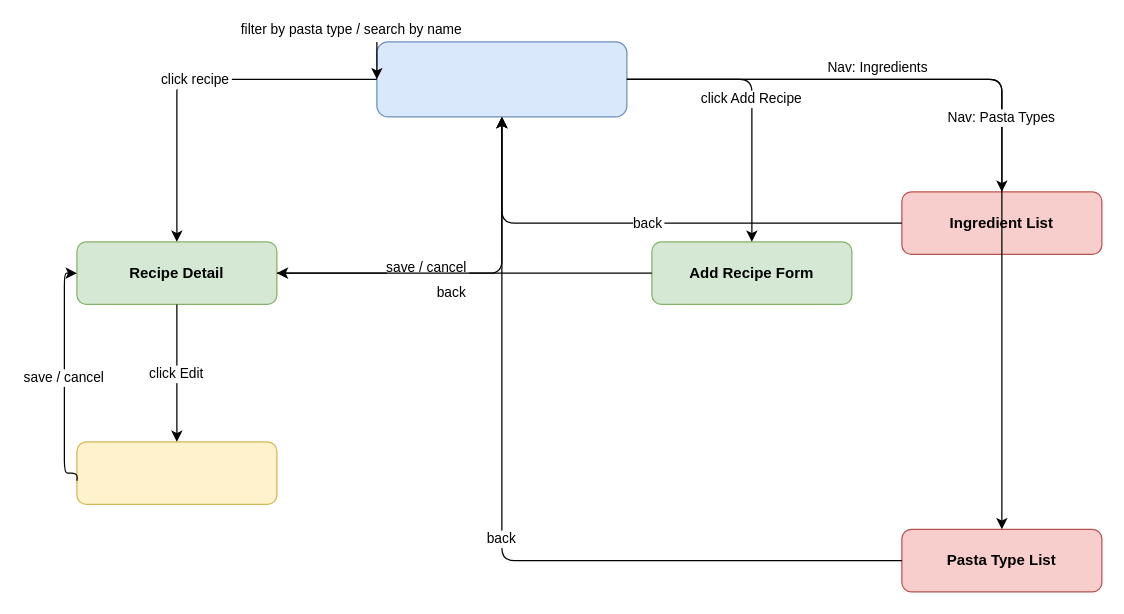
The diagram is 1124 pixels wide and 614 high, and some of its shapes have lost their labels. The shapes that lost their labels are listed below. From the top down, each one's centre as x and y in pixels, then its label:
At (501,79): "Home / Recipe List".
At (176,472): "Edit Recipe Form".
